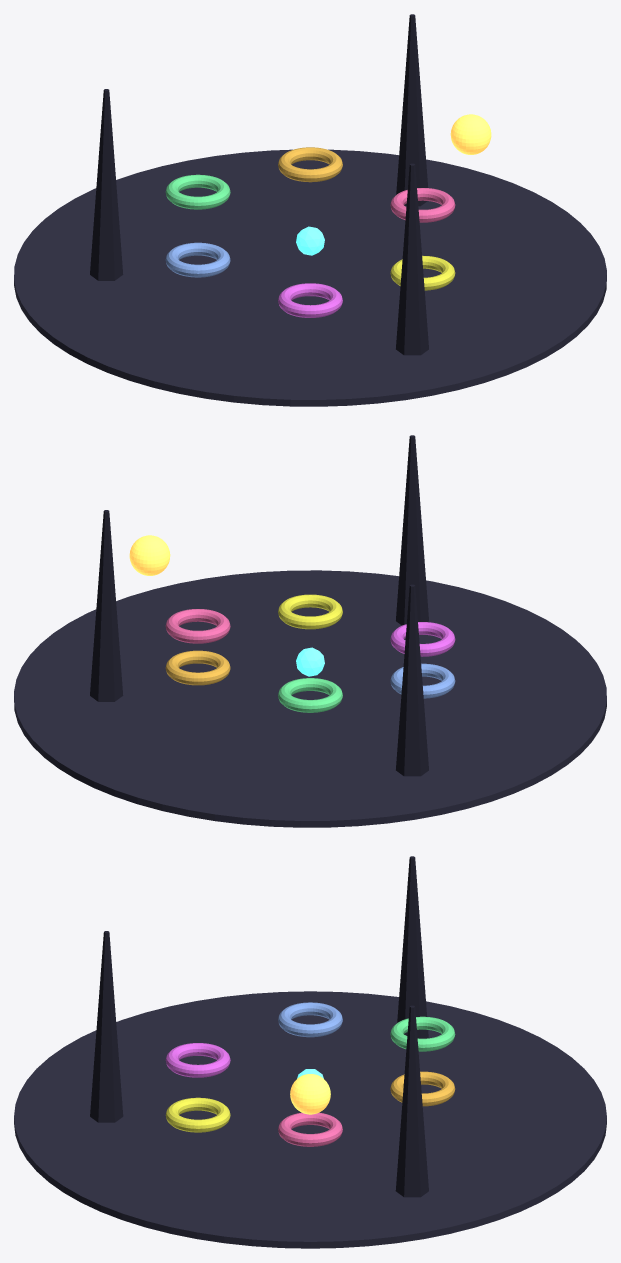
File: sculpture.glb
3 renders of one model, top to bottom at view 1: azimuth 30°, elevation 25°; view 2: azimuth 150°, elevation 25°; view 3: azimuth 270°, elevation 25°, orthographic.
Parts seen in each view (by area): view 1: Ground, Spire_2, Spire_1, Spire_0, Ring_3, Ring_1, Ring_2, Ring_4, Moon, Ring_0, Ring_5, Core; view 2: Ground, Spire_1, Spire_0, Spire_2, Ring_1, Ring_2, Ring_5, Ring_0, Moon, Ring_4, Ring_3, Core; view 3: Ground, Spire_0, Spire_2, Spire_1, Ring_3, Ring_5, Ring_4, Ring_0, Ring_2, Moon, Ring_1.
Boxes of the visible parts, x1,y1,x2,y2 form: Ground: (14, 149, 606, 406); Spire_2: (396, 163, 428, 355); Spire_1: (90, 89, 123, 280); Spire_0: (396, 14, 428, 206); Ring_3: (165, 242, 230, 277); Ring_1: (278, 147, 342, 182); Ring_2: (165, 174, 230, 209); Ring_4: (278, 283, 342, 317); Moon: (450, 114, 491, 154); Ring_0: (390, 188, 455, 222); Ring_5: (390, 255, 455, 290); Core: (296, 226, 324, 255); Ground: (14, 570, 606, 827); Spire_1: (396, 584, 428, 776); Spire_0: (90, 510, 123, 701); Spire_2: (396, 435, 428, 625); Ring_1: (165, 650, 230, 685); Ring_2: (278, 678, 342, 712); Ring_5: (278, 594, 342, 629); Ring_0: (165, 609, 230, 643); Moon: (129, 535, 170, 575); Ring_4: (390, 622, 455, 656); Ring_3: (390, 663, 455, 698); Core: (296, 647, 324, 676); Ground: (14, 991, 606, 1248); Spire_0: (395, 1005, 428, 1197); Spire_2: (90, 931, 123, 1122); Spire_1: (397, 856, 428, 1038); Ring_3: (278, 1002, 342, 1037); Ring_5: (165, 1097, 230, 1132); Ring_4: (165, 1043, 230, 1077); Ring_0: (278, 1112, 342, 1146); Ring_2: (390, 1016, 455, 1051); Moon: (290, 1074, 330, 1114); Ring_1: (390, 1071, 455, 1106).
Bounding box in the file's own units: 6.4 × 2.28 × 6.4.
